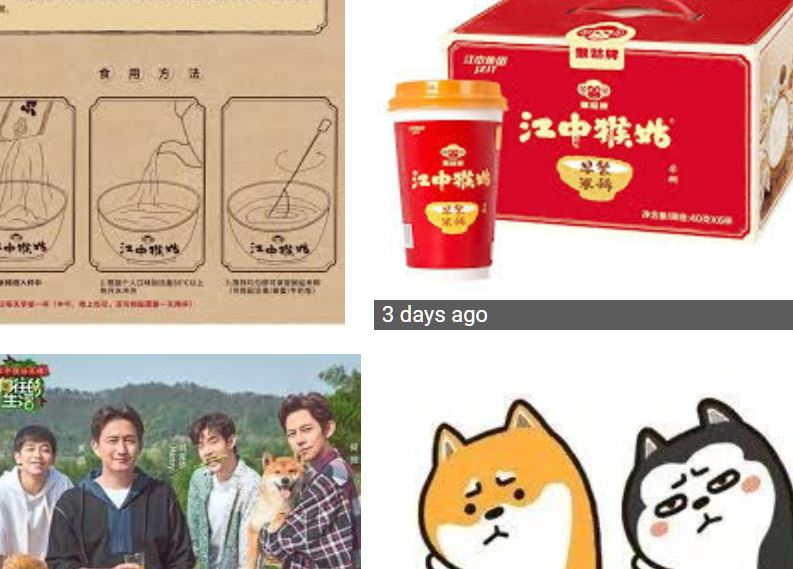box: (451, 1, 790, 244)
cup: (390, 78, 506, 282)
